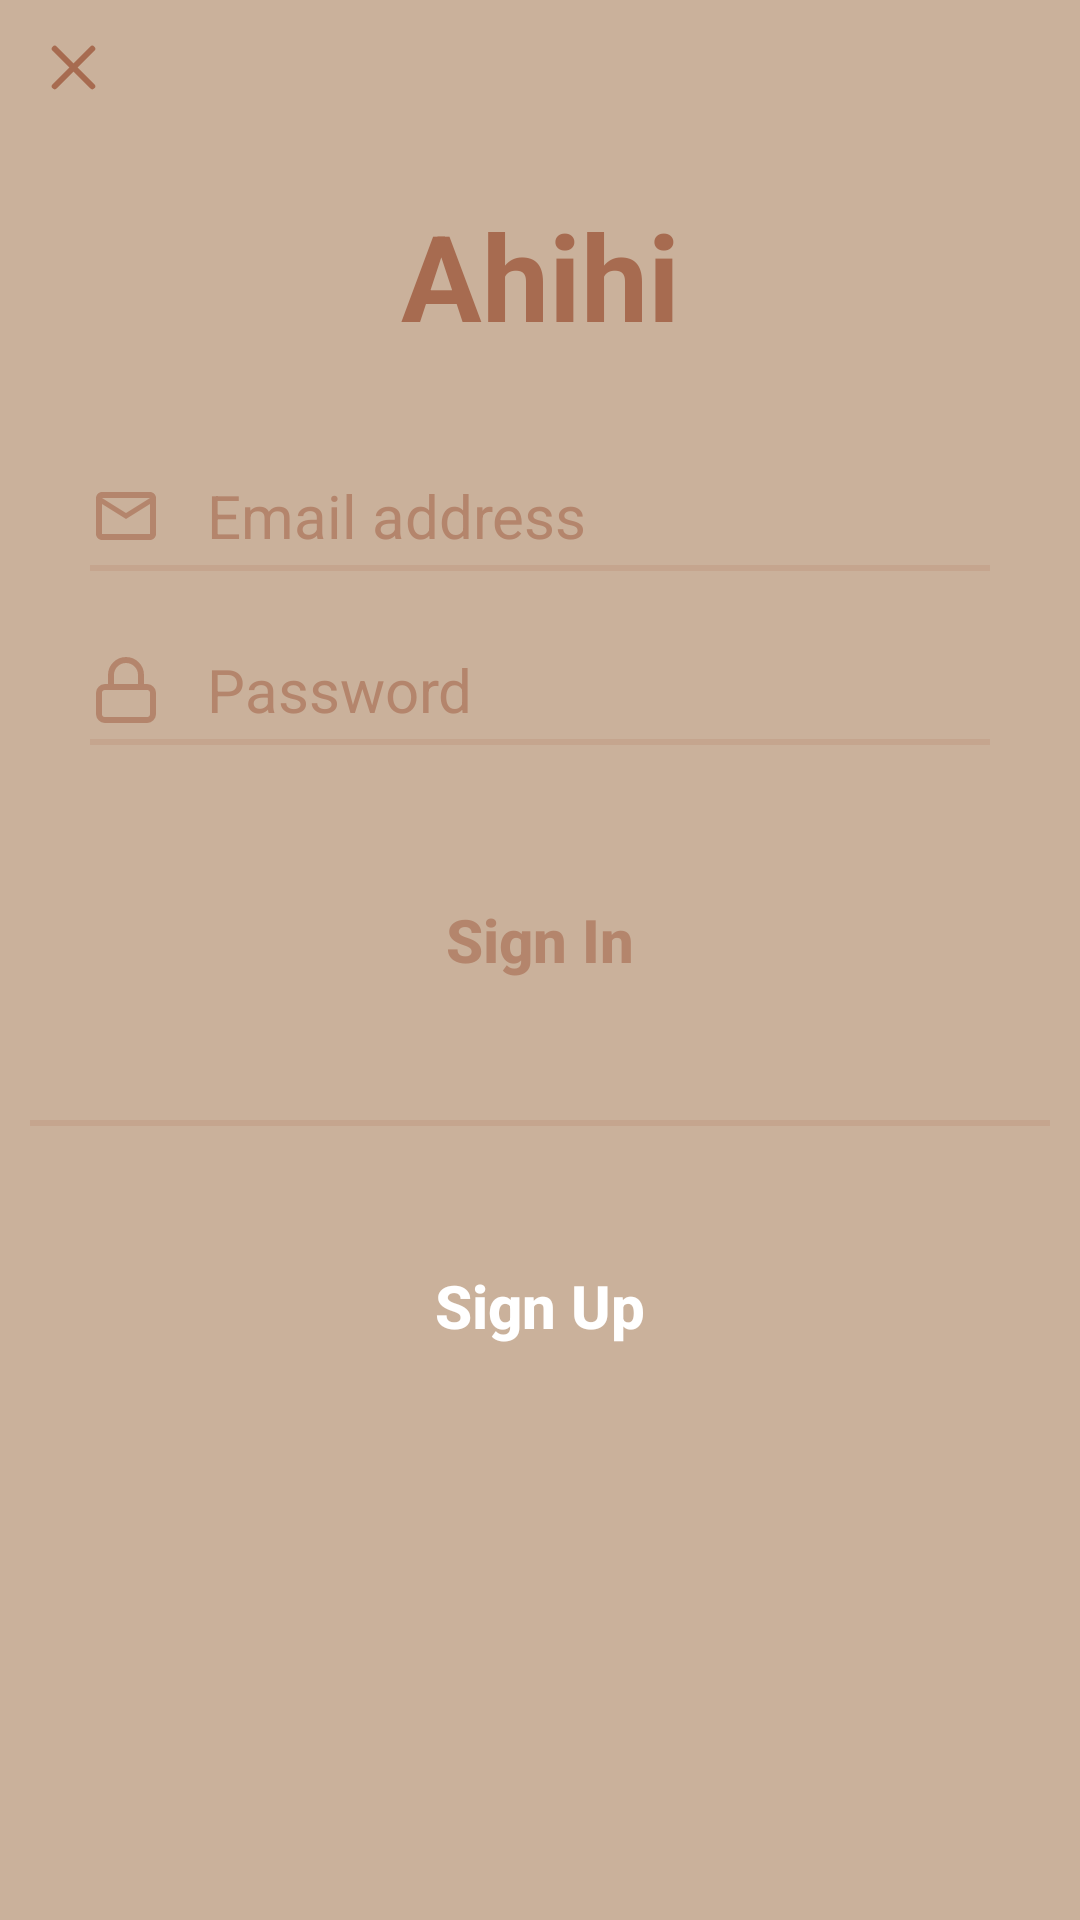

Screen size 1080x1920. Icon name, then its center in pixels as [x,y]:
lock: [126,690]
